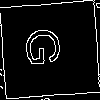G: (24, 25, 69, 68)
